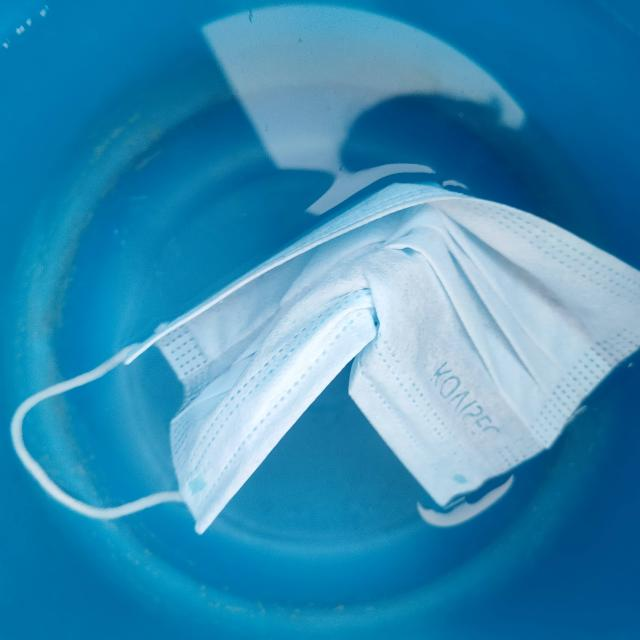litter: (19, 147, 634, 531)
